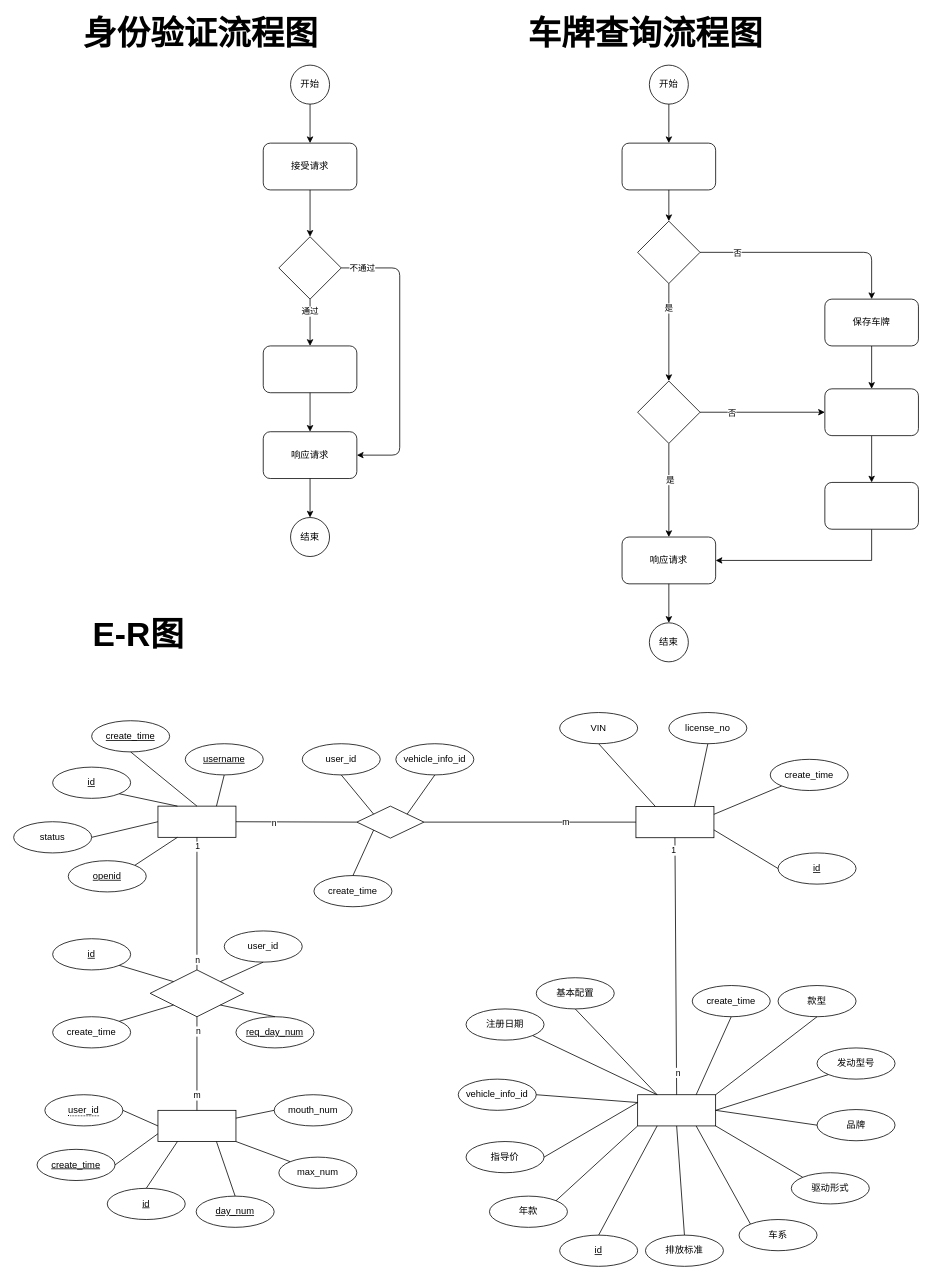
The diagram is 932 pixels wide and 1280 high, and some of its shapes have lost their labels. Each missing label, with the centre of its shape:
vehicle: (x=676, y=1110)
vehicle_info: (x=674, y=822)
从第三方获取数据: (x=871, y=412)
保存数据: (x=871, y=505)
后续处理: (x=309, y=369)
是否有 车牌号: (x=668, y=252)
是否有 车辆信息: (x=668, y=411)
查询: (x=390, y=821)
用户: (x=196, y=821)
请求记录: (x=196, y=993)
请求量信息: (x=196, y=1126)
输入车牌: (x=668, y=166)
验证身份: (x=309, y=267)
